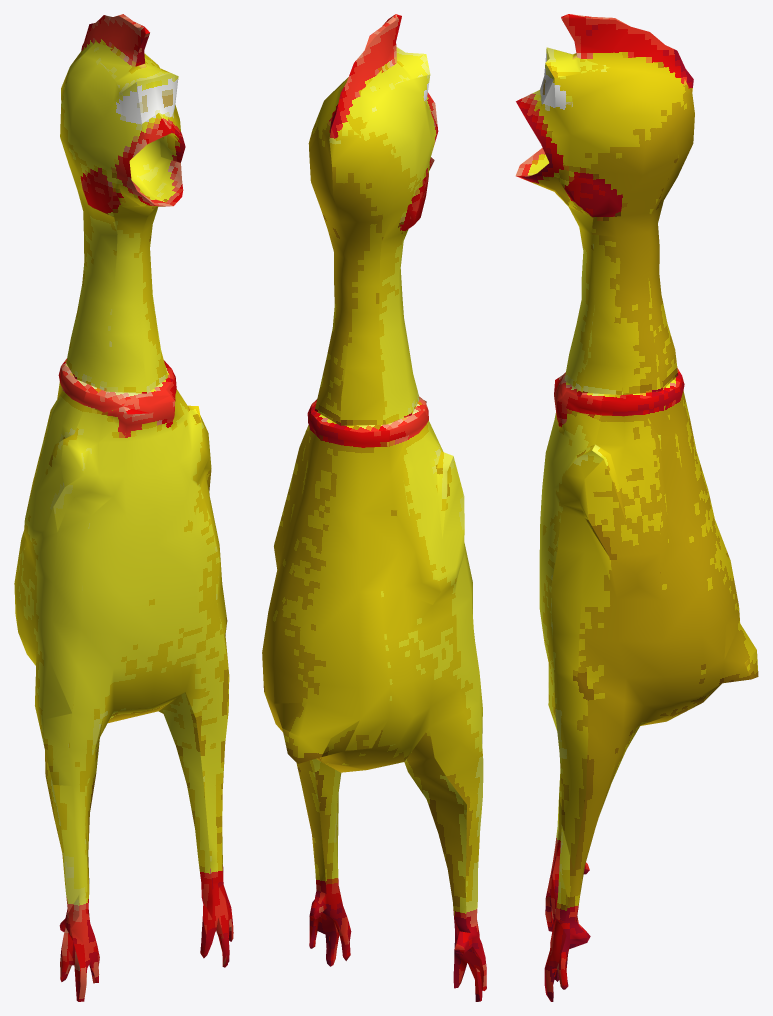
File: wear_rubberchicken.glb
The picture shows the model from 3 angles, left to right: view 1: azimuth 30°, elevation 25°; view 2: azimuth 150°, elevation 25°; view 3: azimuth 270°, elevation 25°; orthographic projection. The views are drawn at different scales.
Visible parts, largest first — view 1: mesh; view 2: mesh; view 3: mesh.
Part boxes in pixels (<box>): mesh: <box>14,14,233,1001</box>; mesh: <box>262,14,486,1001</box>; mesh: <box>515,14,758,1001</box>.
Size of the model in its own units: 0.0614 by 0.3 by 0.0693.
1 material, 1 textured.
